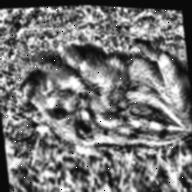boar: (15, 21, 192, 164)
